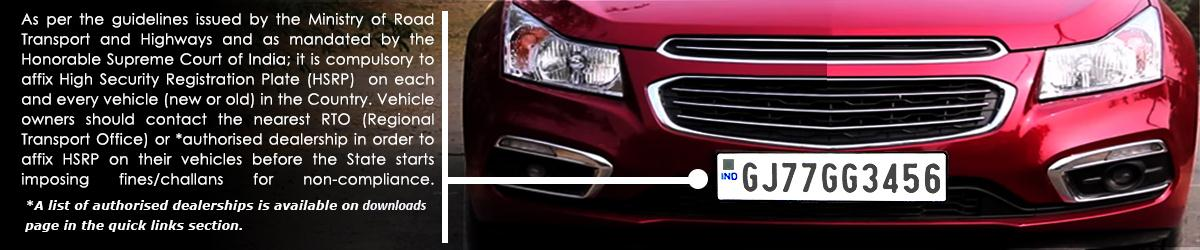number_plate: (714, 148, 956, 208)
